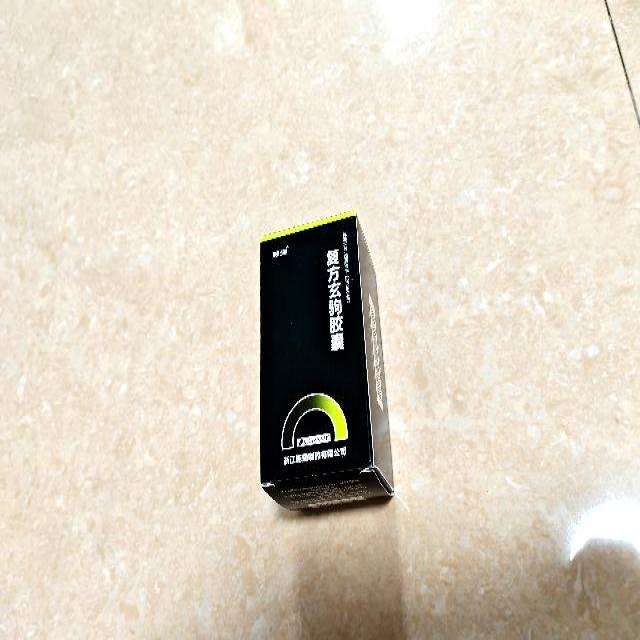box: (258, 212, 396, 512)
